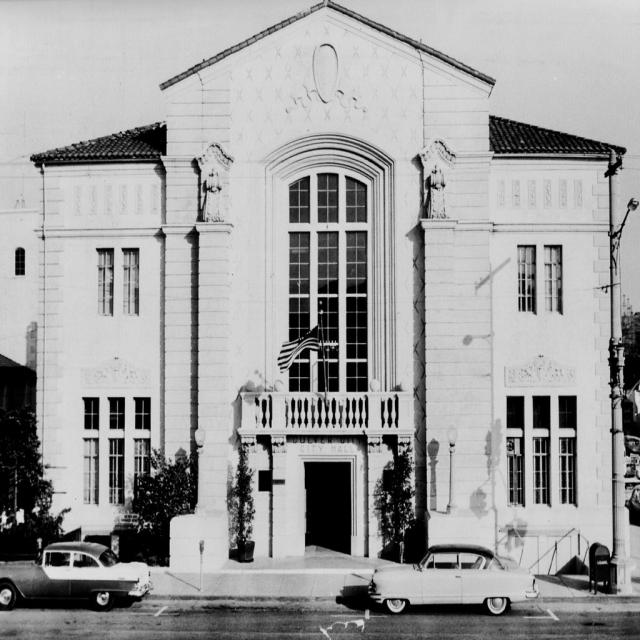car: (367, 545, 538, 616)
